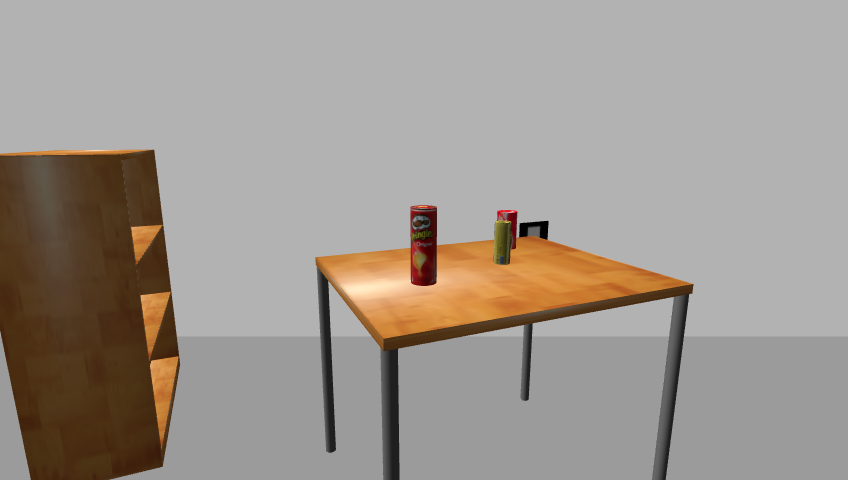aruco marker: (516, 219, 551, 244)
biscuits pack: (494, 221, 511, 265)
bookshelf: (0, 148, 185, 479)
coke can: (496, 210, 519, 253)
dinner table: (309, 236, 704, 479)
pringles can: (407, 204, 440, 288)
